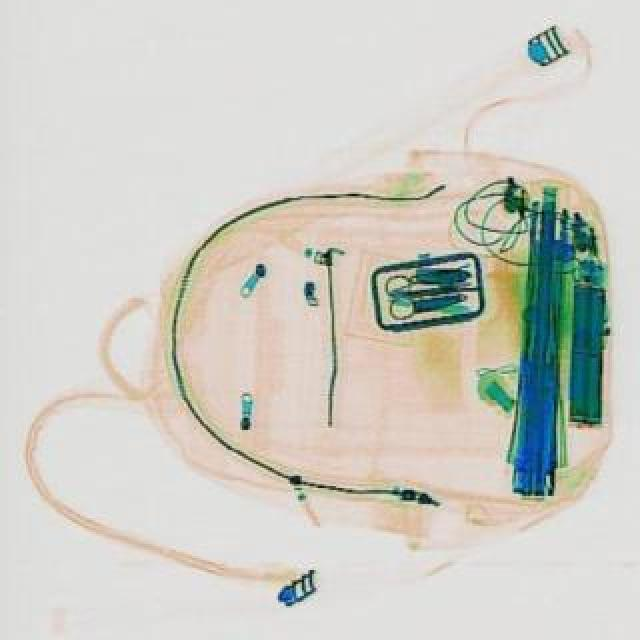pliers: (380, 264, 458, 318)
